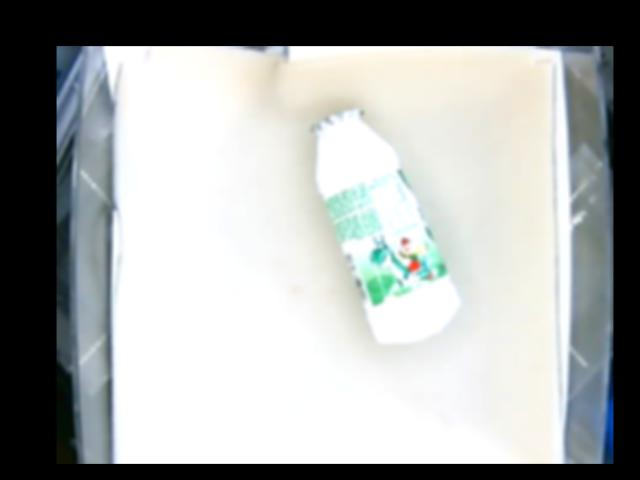Bottle: (308, 110, 462, 347)
